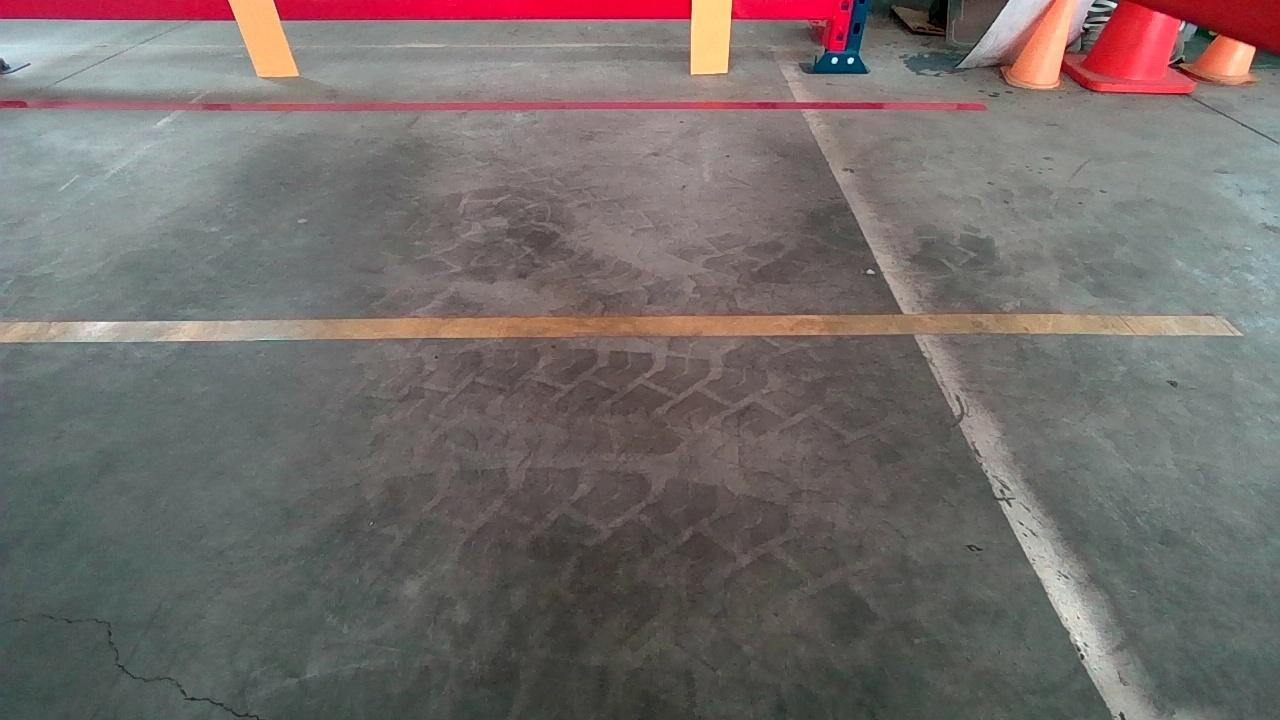orange_strip: (227, 0, 300, 74), (690, 0, 731, 70)
yellow_line: (6, 314, 1245, 343)
